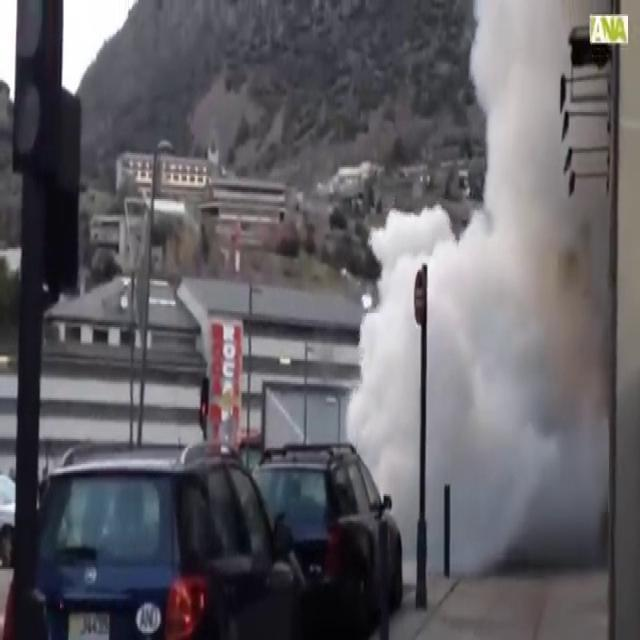Smoke: (344, 1, 621, 564)
